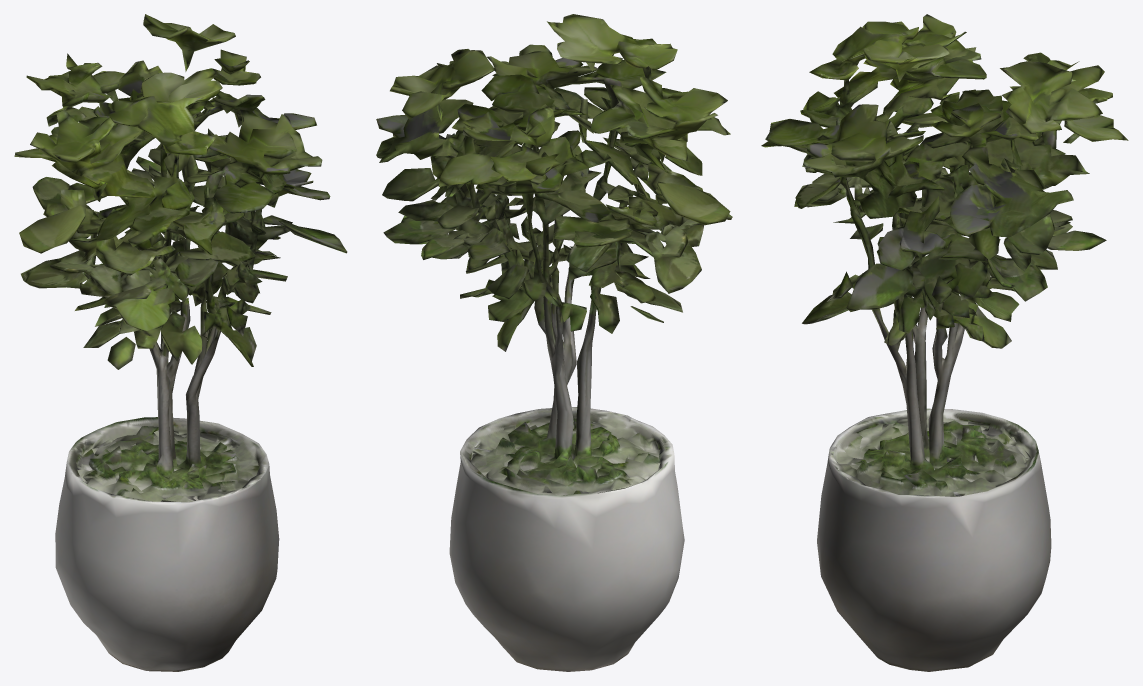
The model's file is A_modern_indoor_plant_1127151545_texture.fbx.
The picture shows the model from 3 angles, left to right: view 1: azimuth 30°, elevation 25°; view 2: azimuth 150°, elevation 25°; view 3: azimuth 270°, elevation 25°; orthographic projection. The views are drawn at different scales.
Parts seen in each view (by area): view 1: Mesh_0; view 2: Mesh_0; view 3: Mesh_0.
Part boxes in pixels (box(x1,y1,x2,y2)): Mesh_0: box(14, 14, 347, 671); Mesh_0: box(376, 14, 732, 671); Mesh_0: box(761, 14, 1128, 671).
Size of the model in its own units: 112 by 200 by 110.
Materials: 1 (1 with a texture image).
